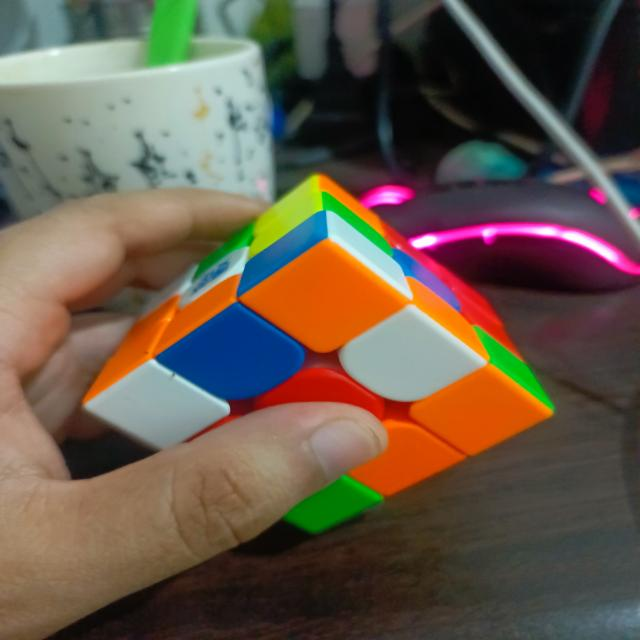rubik: (79, 171, 557, 535)
